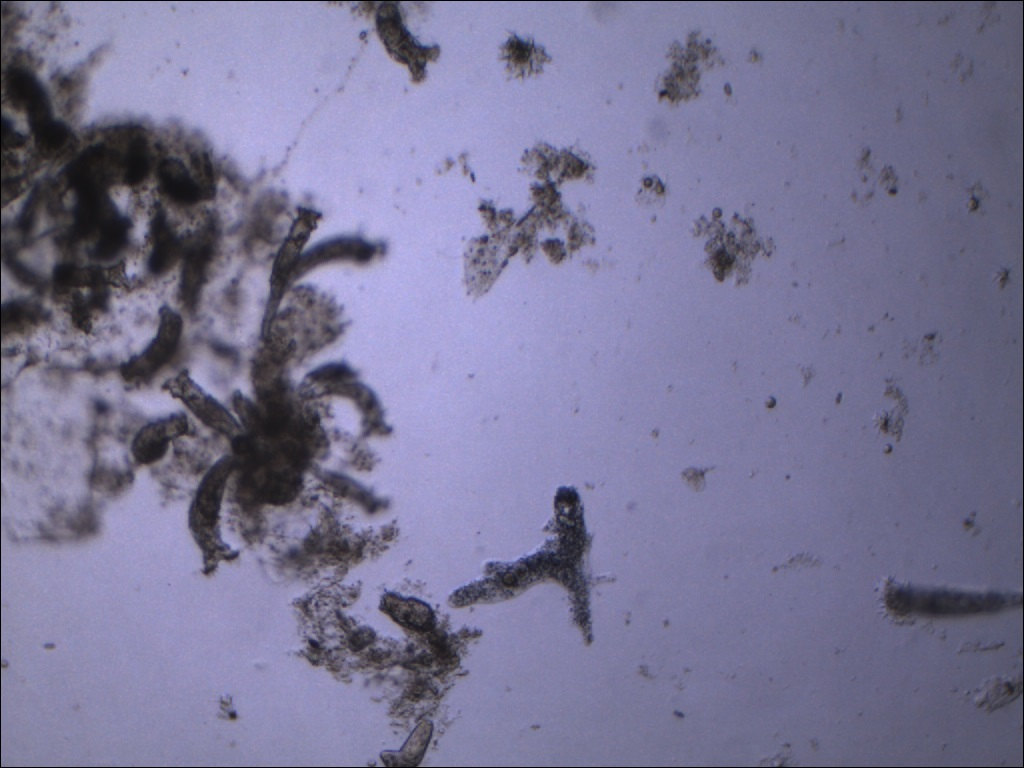amoeba: (443, 480, 606, 652)
